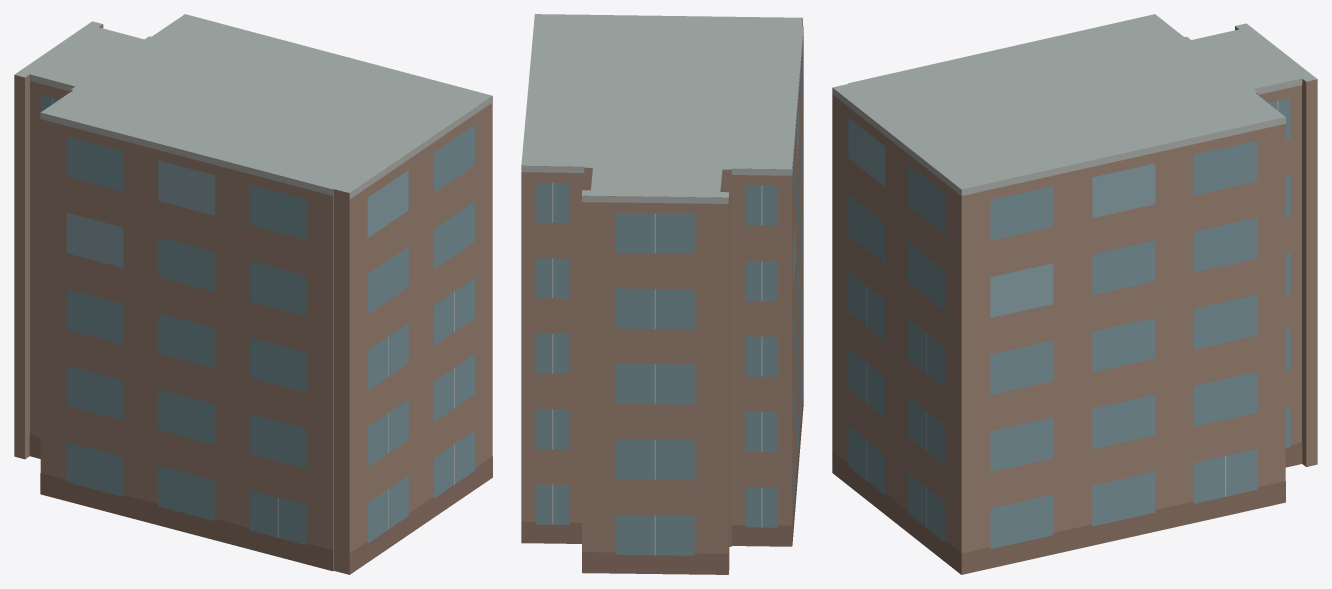
File: survey-upis-32882556.glb
The picture shows the model from 3 angles, left to right: view 1: azimuth 30°, elevation 25°; view 2: azimuth 150°, elevation 25°; view 3: azimuth 270°, elevation 25°; orthographic projection. The views are drawn at different scales.
Parts seen in each view (by area): view 1: survey-upis-32882556.tmp; view 2: survey-upis-32882556.tmp; view 3: survey-upis-32882556.tmp.
Part boxes in pixels (x1,y1,x2,y2): survey-upis-32882556.tmp: (14,14,492,574); survey-upis-32882556.tmp: (521,14,803,574); survey-upis-32882556.tmp: (832,14,1317,574).
Size of the model in its own units: 13.98 by 14.3 by 16.33.
